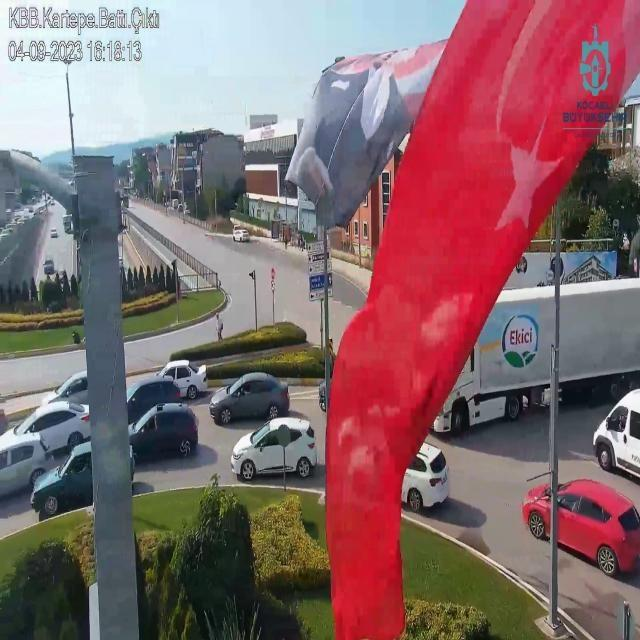Car: (520, 477, 639, 578), (33, 437, 148, 516), (48, 374, 178, 428), (234, 413, 329, 484), (4, 401, 88, 458), (127, 402, 199, 462), (208, 372, 289, 425), (401, 442, 449, 513), (154, 360, 208, 400), (40, 370, 91, 411), (232, 228, 250, 242)
Truck: (409, 280, 640, 439)
Van: (592, 390, 640, 489)
